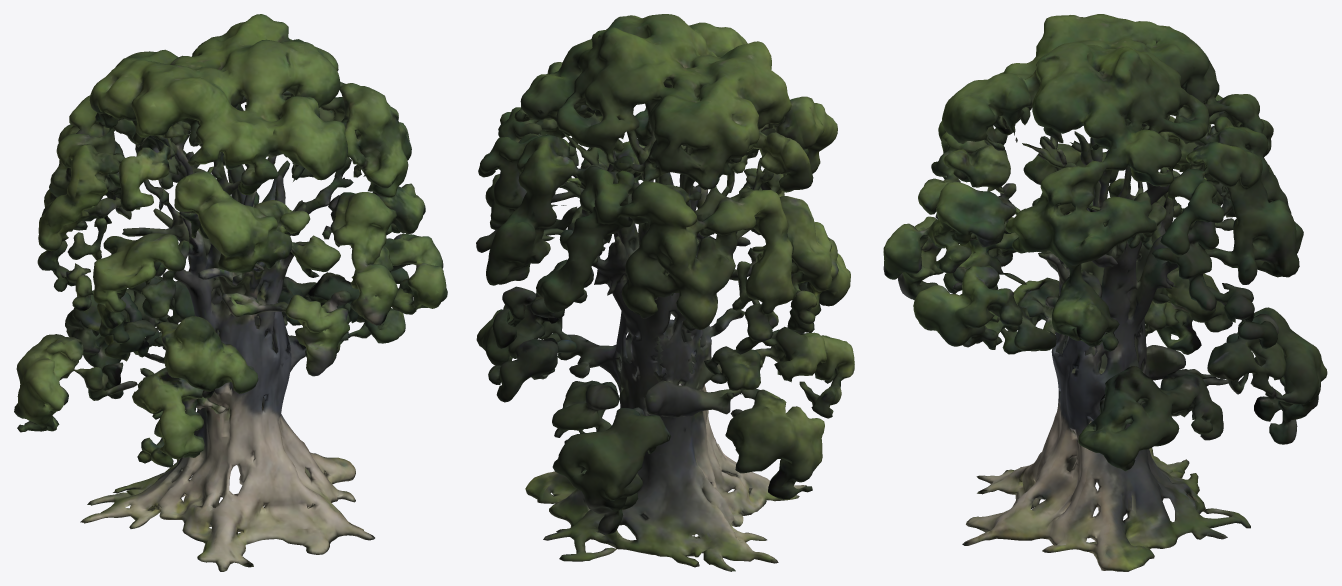
The model's file is tree_0424095353_refine.fbx.
3 views of the same model, side by side, from view 1: azimuth 30°, elevation 25°; view 2: azimuth 150°, elevation 25°; view 3: azimuth 270°, elevation 25° (orthographic). The views are drawn at different scales.
Visible parts, largest first — view 1: Mesh_0; view 2: Mesh_0; view 3: Mesh_0.
Part boxes in pixels (x1,y1,x2,y2): Mesh_0: (14,14,447,571); Mesh_0: (476,14,854,571); Mesh_0: (883,14,1327,571).
Bounding box in the file's own units: 158 × 199 × 166.
Materials: 1 (1 with a texture image).
